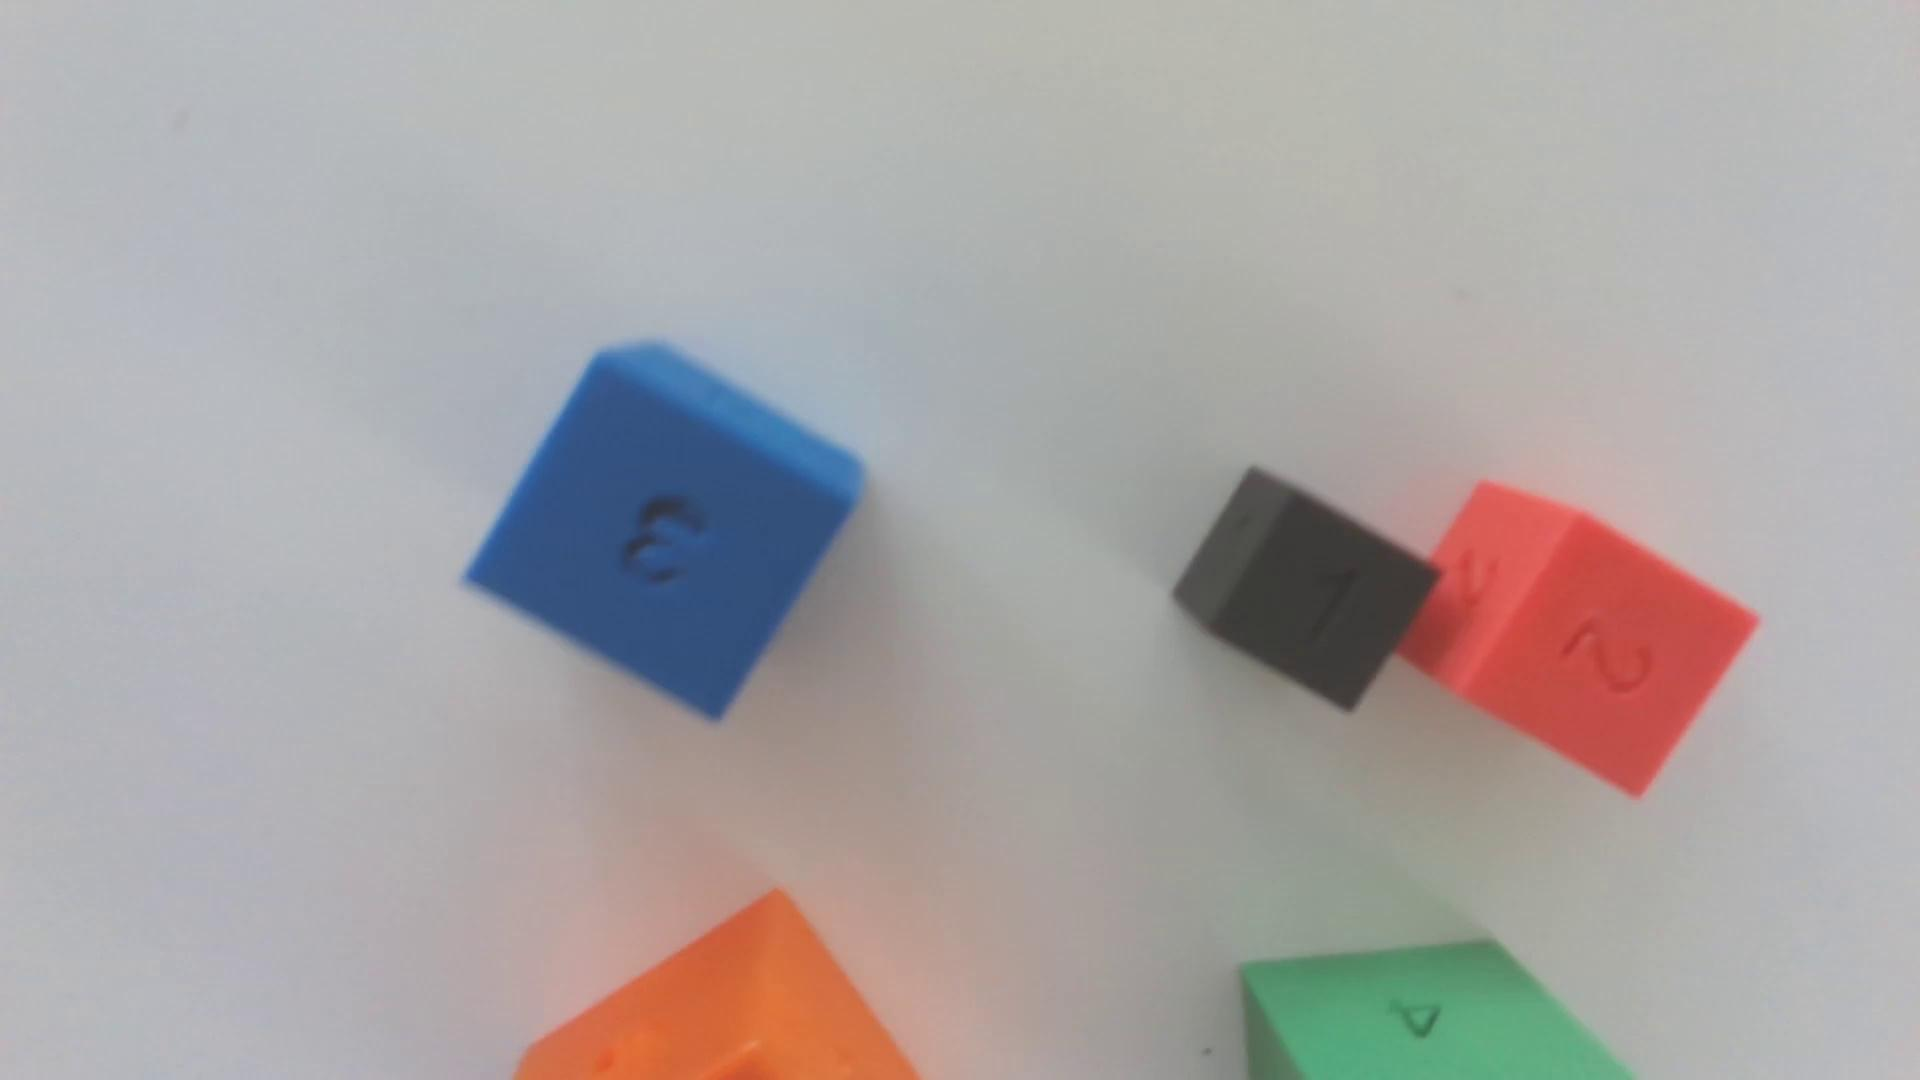black: (1174, 469, 1436, 712)
blue: (465, 343, 865, 720)
green: (1240, 942, 1629, 1080)
orange: (514, 891, 919, 1080)
red: (1400, 483, 1756, 798)
